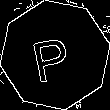P_N: (32, 27, 78, 83)
